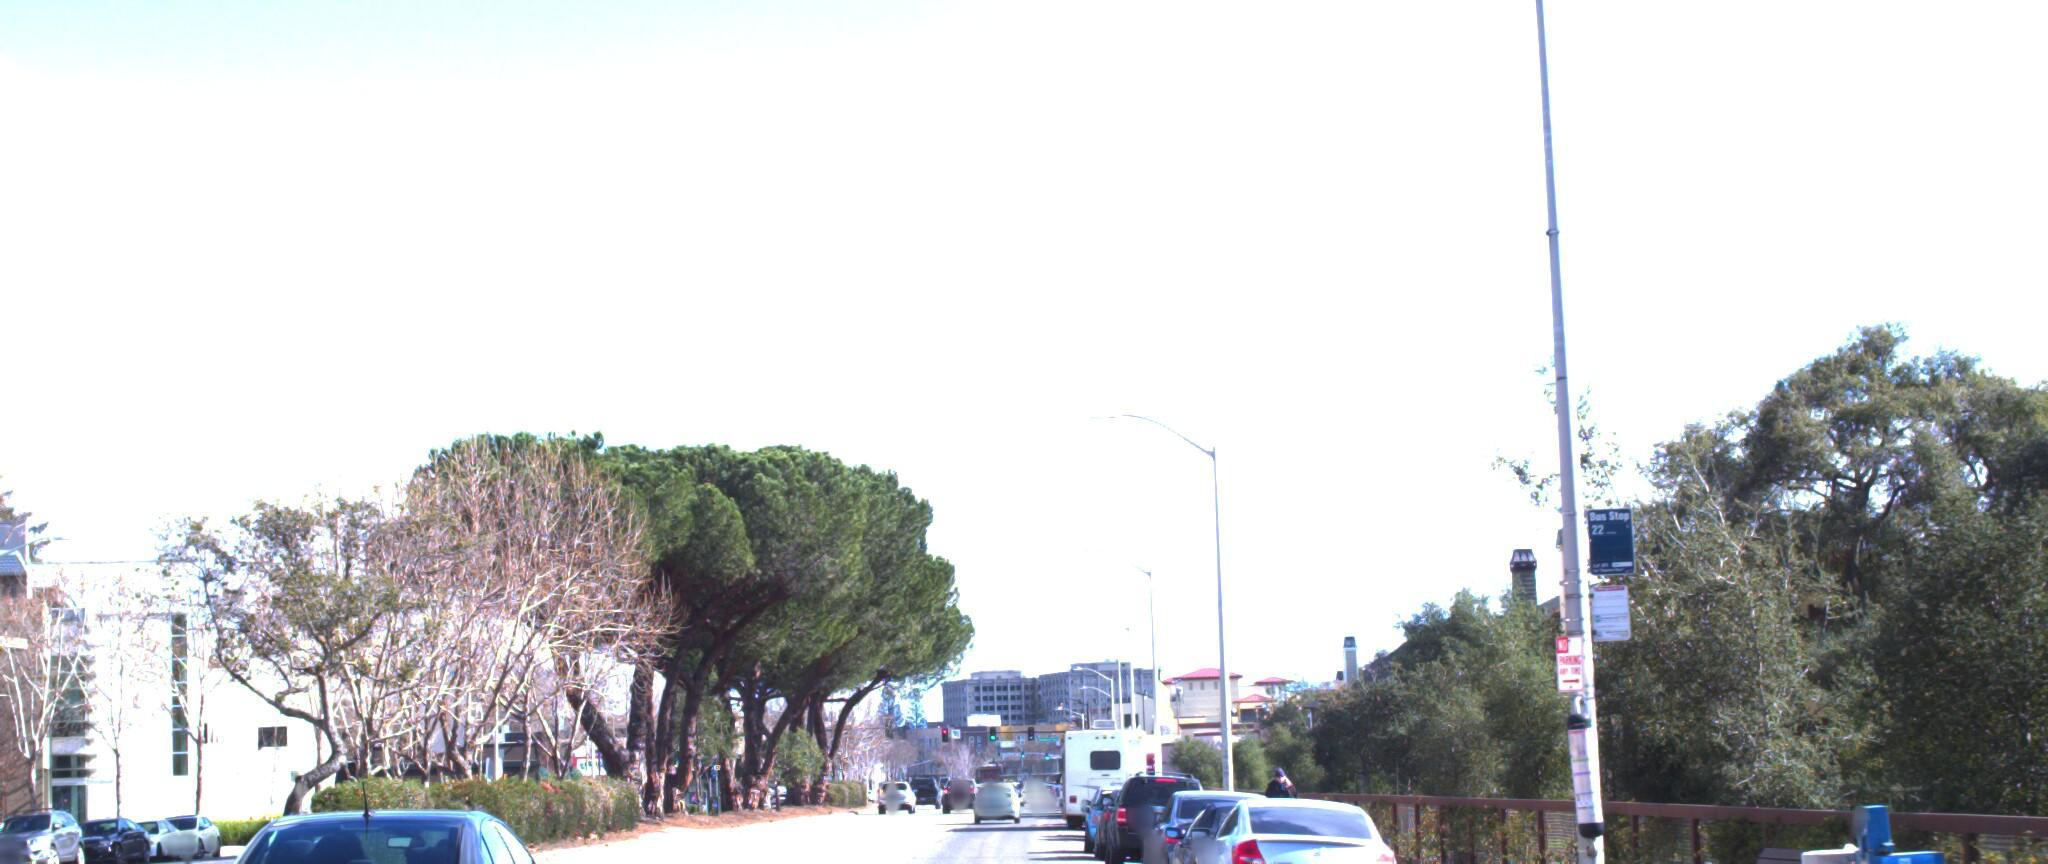car: (148, 777, 590, 864), (1170, 790, 1413, 864), (1147, 787, 1330, 864), (1089, 764, 1209, 864)
